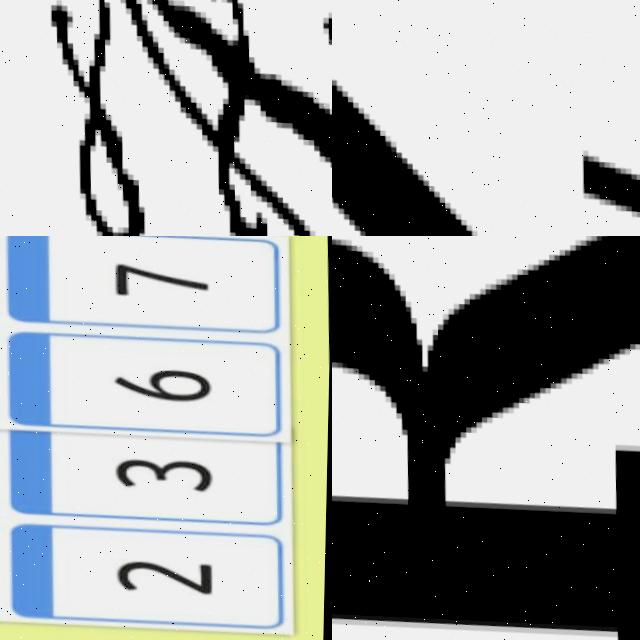2: (114, 544, 218, 591)
3: (114, 445, 216, 487)
6: (107, 353, 213, 400)
7: (108, 250, 208, 297)
A: (31, 0, 332, 236)
R: (332, 236, 640, 640)
Z: (332, 15, 640, 236)
